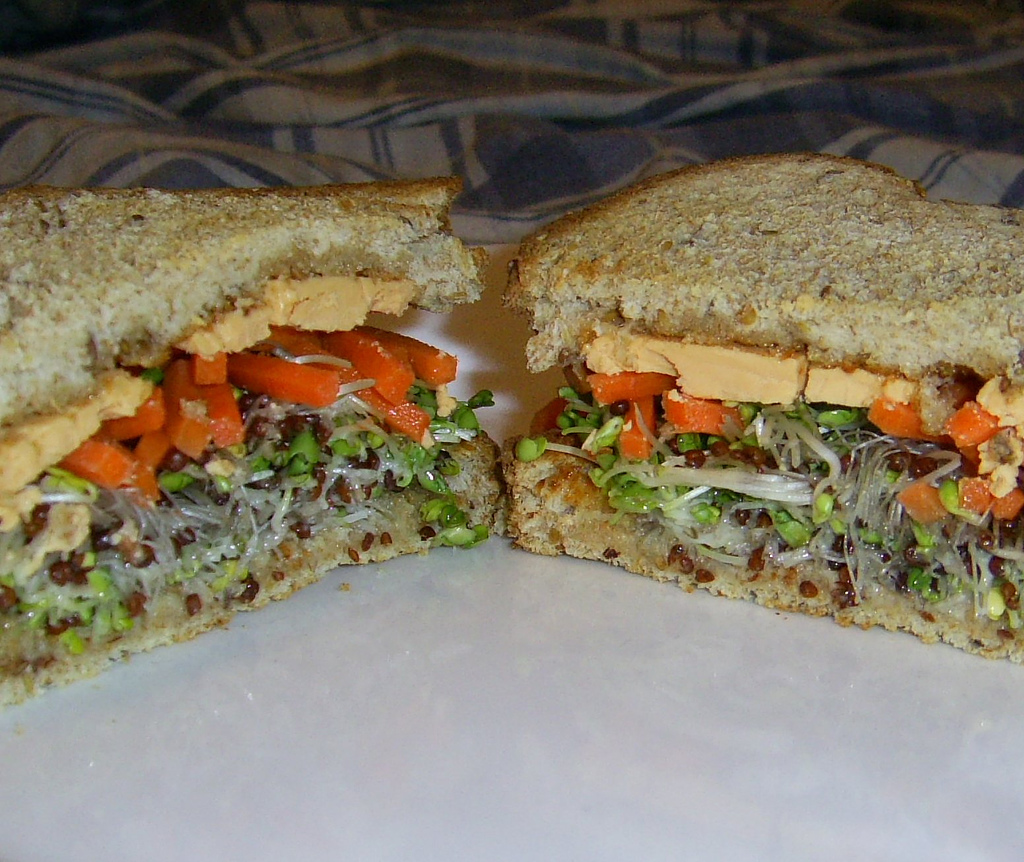slice of bread: (522, 151, 1022, 351)
